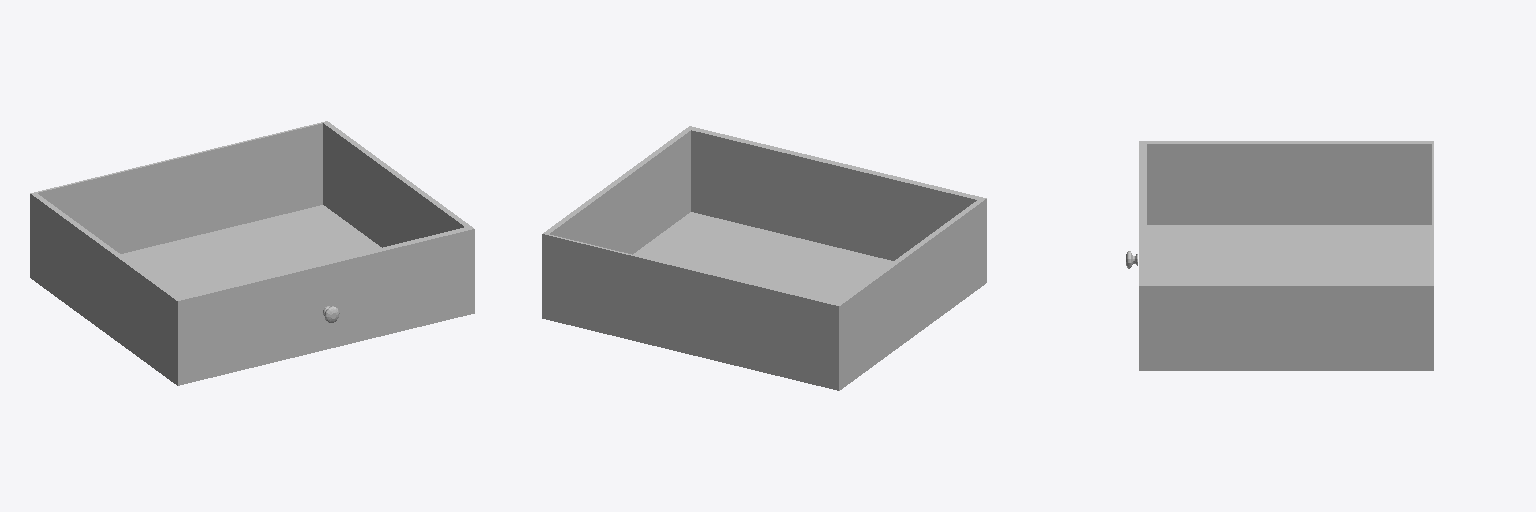
File: SmallDrawerThird.obj
The picture shows the model from 3 angles: view 1: azimuth 30°, elevation 25°; view 2: azimuth 150°, elevation 25°; view 3: azimuth 270°, elevation 25°; orthographic projection.
Visible parts, largest first — view 1: Plane_007; view 2: Plane_007; view 3: Plane_007.
Boxes of the visible parts, box(x1,y1,x2,y2) form: Plane_007: box(30, 121, 474, 385); Plane_007: box(542, 126, 986, 390); Plane_007: box(1126, 141, 1433, 370).
Bounding box in the file's own units: 0.5974 × 0.1626 × 0.5376.